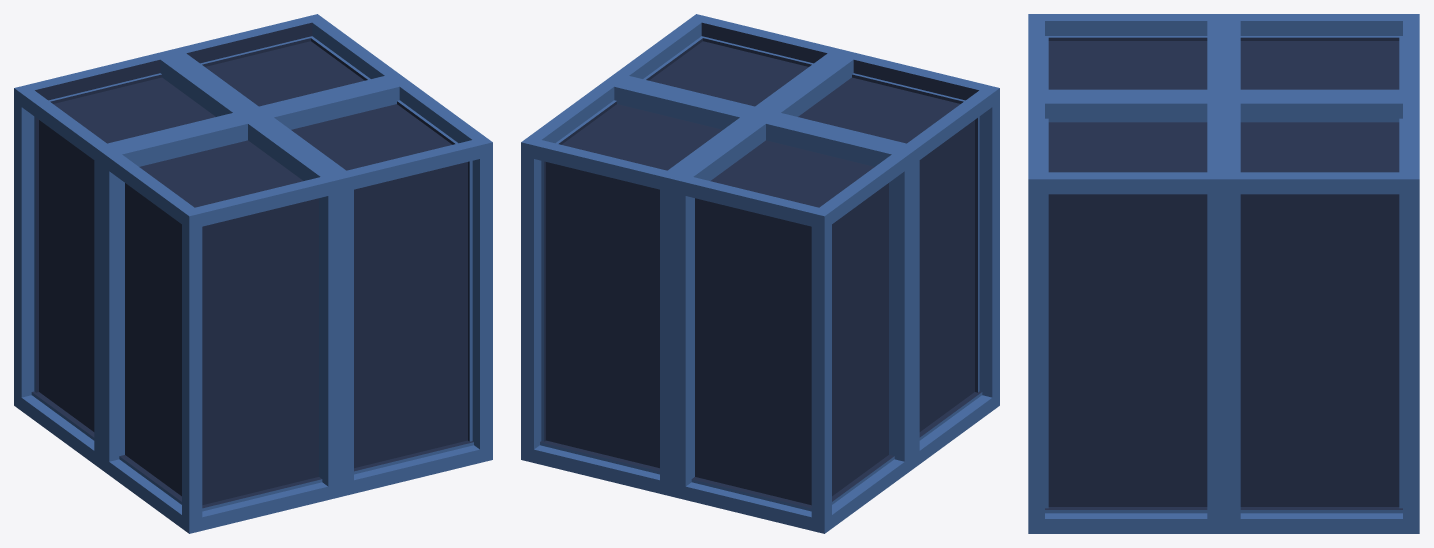
File: CrateModel01.fbx
3 views of the same model, side by side, from view 1: azimuth 30°, elevation 25°; view 2: azimuth 150°, elevation 25°; view 3: azimuth 270°, elevation 25° (orthographic). The views are drawn at different scales.
Visible parts, largest first — view 1: Crate01; view 2: Crate01; view 3: Crate01.
Part boxes in pixels (<box>): Crate01: <box>14,14,492,533</box>; Crate01: <box>521,14,999,533</box>; Crate01: <box>1028,14,1419,533</box>.
Size of the model in its own units: 95.71 by 95.71 by 95.71.
